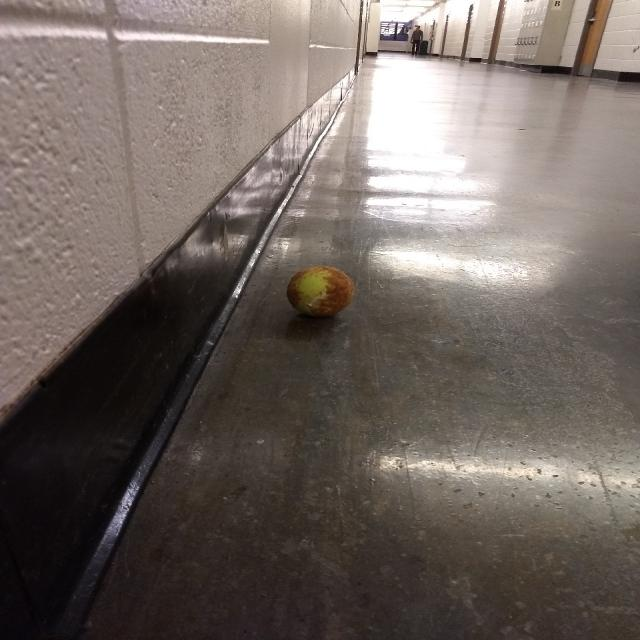Tennis-Ball: (285, 262, 357, 320)
